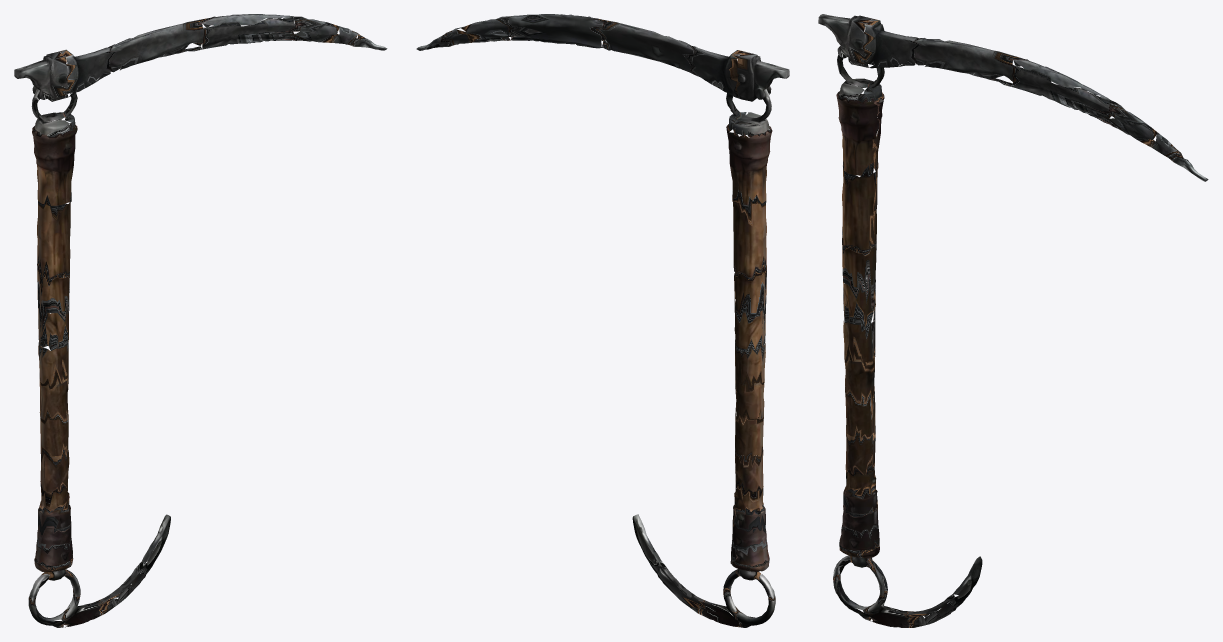
File: w_hook_scythe.glb
3 renders of one model, left to right at view 1: azimuth 30°, elevation 25°; view 2: azimuth 150°, elevation 25°; view 3: azimuth 330°, elevation 25°, orthographic. The views are drawn at different scales.
Visible parts, largest first — view 1: geometry_0; view 2: geometry_0; view 3: geometry_0.
Part boxes in pixels (box(x1,y1,x2,y2)): geometry_0: box(14, 14, 387, 627); geometry_0: box(416, 14, 789, 627); geometry_0: box(818, 14, 1208, 627).
Bounding box in the file's own units: 0.5048 × 0.75 × 0.0504.
Materials: 1 (1 with a texture image).
